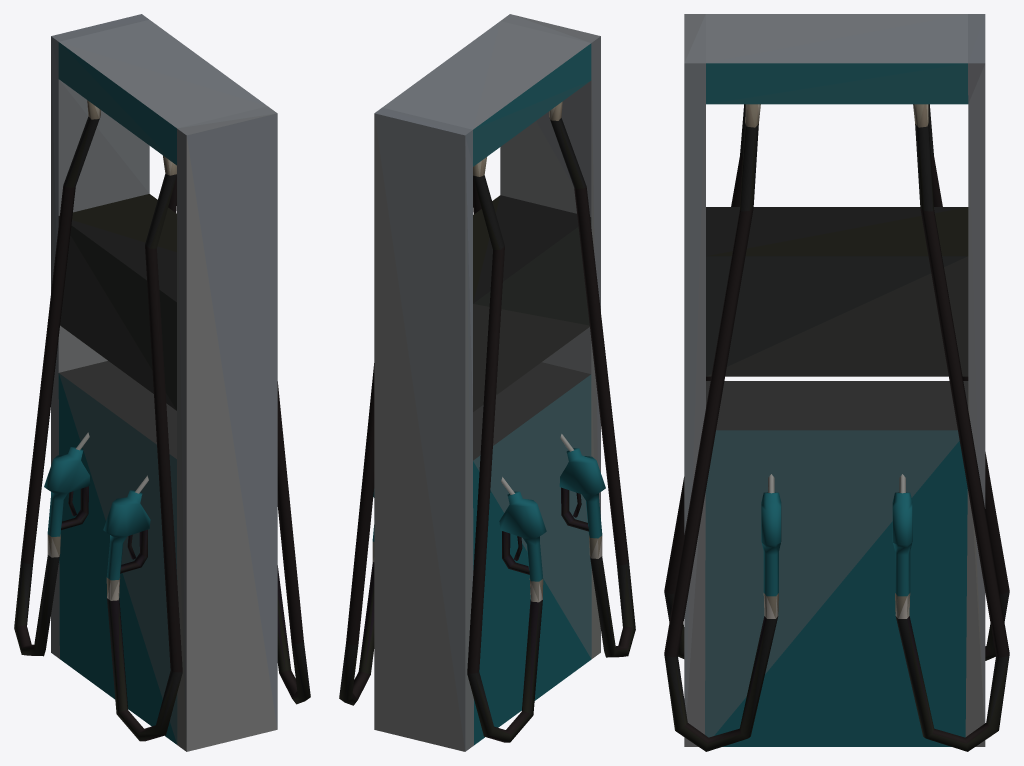
Rendered from gs_fuel_pump.glb.
The picture shows the model from 3 angles, left to right: view 1: azimuth 30°, elevation 25°; view 2: azimuth 150°, elevation 25°; view 3: azimuth 270°, elevation 25°; orthographic projection. The views are drawn at different scales.
Visible parts, largest first — view 1: Fuel_pump; view 2: Fuel_pump; view 3: Fuel_pump.
Part boxes in pixels (x1,y1,x2,y2): Fuel_pump: (14,14,310,751); Fuel_pump: (339,14,635,751); Fuel_pump: (664,14,1009,751).
Bounding box in the file's own units: 0.8285 × 2.81 × 1.29.
